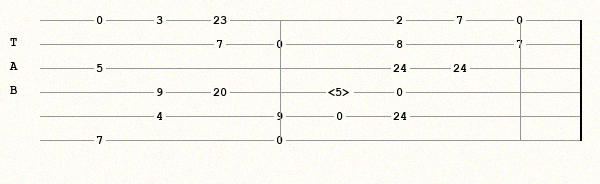0: (96, 14, 107, 26), (276, 134, 287, 146), (276, 38, 287, 50), (336, 110, 347, 122), (396, 86, 407, 98), (516, 14, 527, 26)
2: (396, 14, 407, 26)
20: (213, 86, 231, 98)
23: (213, 14, 231, 26)
24: (393, 110, 411, 122), (393, 62, 411, 74), (453, 62, 471, 74)
3: (156, 14, 167, 26)
4: (156, 110, 167, 122)
5: (96, 62, 107, 74)
7: (96, 134, 107, 146), (216, 38, 227, 50), (456, 14, 467, 26), (516, 38, 527, 50)
8: (396, 38, 407, 50)
9: (156, 86, 167, 98), (276, 110, 287, 122)
harmonic: (328, 86, 355, 98)
